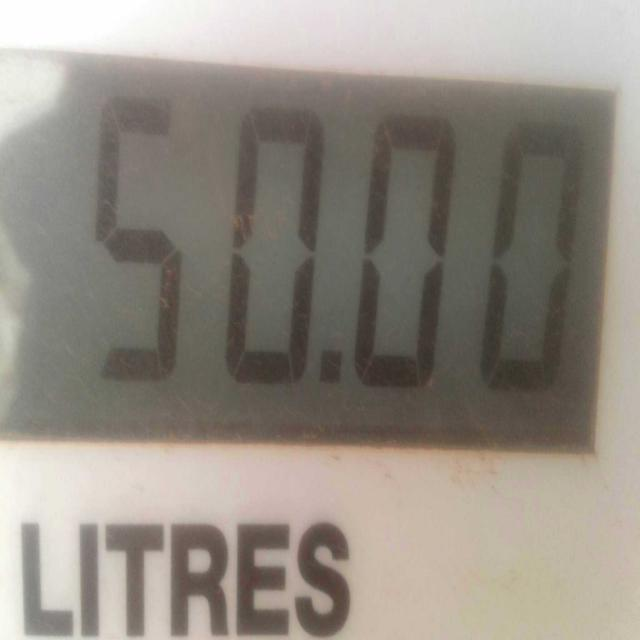.: (313, 344, 344, 382)
0: (357, 105, 459, 397), (227, 105, 323, 385), (484, 123, 578, 392)
5: (98, 95, 184, 382)
screen: (2, 43, 612, 460)
